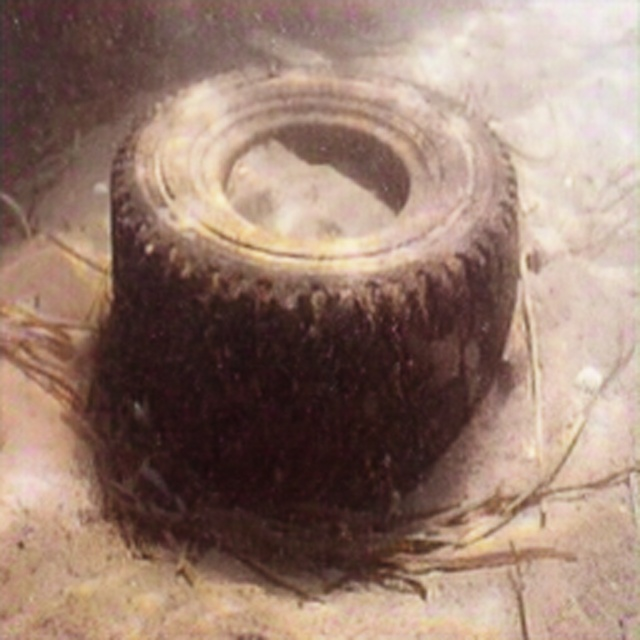mine: (109, 65, 521, 510)
